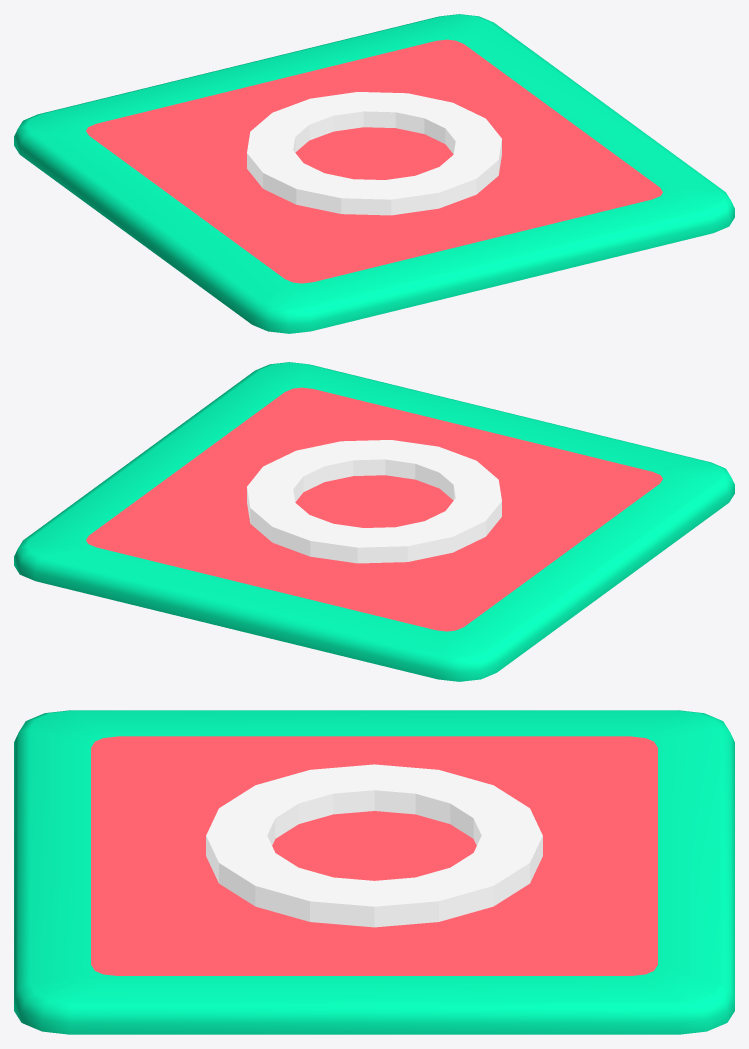
Rendered from cell_should_be_marked.glb.
3 views of the same model, one above another, from view 1: azimuth 30°, elevation 25°; view 2: azimuth 150°, elevation 25°; view 3: azimuth 270°, elevation 25° (orthographic). The views are drawn at different scales.
Parts seen in each view (by area): view 1: cell_should_be_marked; view 2: cell_should_be_marked; view 3: cell_should_be_marked.
Part boxes in pixels (<box>): cell_should_be_marked: <box>14,14,734,333</box>; cell_should_be_marked: <box>14,362,734,681</box>; cell_should_be_marked: <box>14,710,734,1034</box>.
Bounding box in the file's own units: 1 × 0.0717 × 1.
2 materials, 2 textured.
